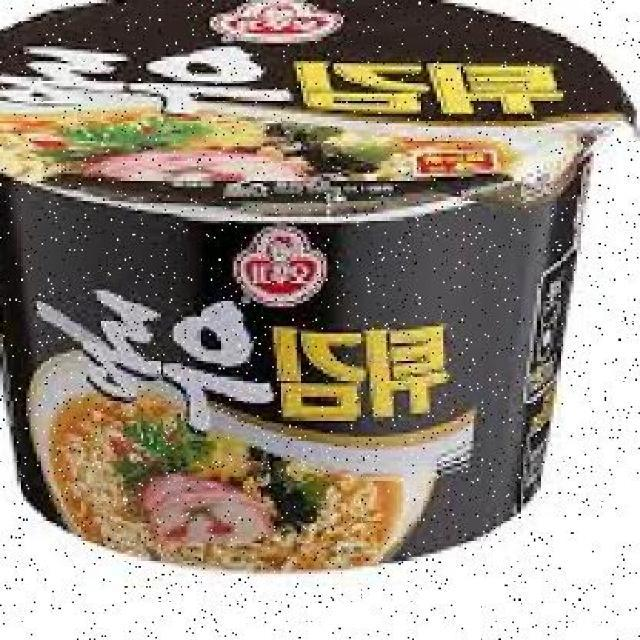Miscellaneous: (0, 6, 597, 554)
